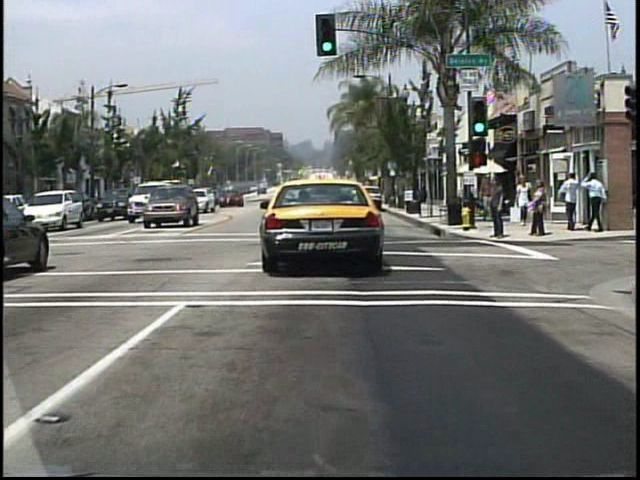person: (581, 169, 607, 232), (559, 169, 579, 232), (489, 178, 508, 240), (531, 180, 550, 237), (514, 176, 533, 229), (477, 176, 497, 225)
